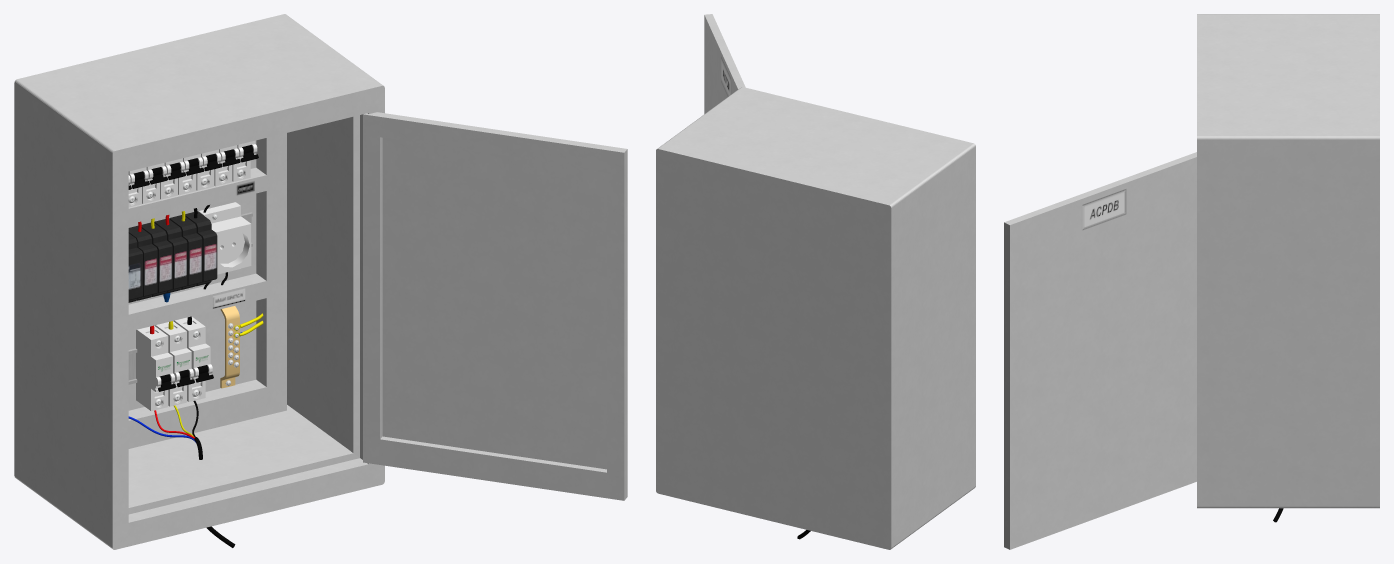
File: ACPBD new.fbx
3 views of the same model, side by side, from view 1: azimuth 30°, elevation 25°; view 2: azimuth 150°, elevation 25°; view 3: azimuth 270°, elevation 25° (orthographic). The views are drawn at different scales.
Parts seen in each view (by area): view 1: Cube.002, Cube.003, Cube, Cube.004, Cube.010, Cube.001, Cylinder.007, Plane.003, Cube.005; view 2: Cube.002, Cube.003; view 3: Cube.002, Cube.003.
Part boxes in pixels (box(x1,y1,x2,y2)): Cube.002: box(14, 14, 384, 549); Cube.003: box(363, 112, 627, 500); Cube: box(128, 133, 286, 448); Cube.004: box(128, 211, 217, 300); Cube.010: box(136, 317, 212, 411); Cube.001: box(128, 140, 257, 207); Cylinder.007: box(198, 202, 251, 274); Plane.003: box(220, 306, 239, 388); Cube.005: box(128, 233, 142, 302); Cube.002: box(656, 87, 975, 549); Cube.003: box(704, 14, 745, 113); Cube.002: box(1197, 14, 1379, 508); Cube.003: box(1004, 152, 1196, 549).
Bounding box in the file's own units: 155 × 167 × 131.
8 materials, 4 textured.
